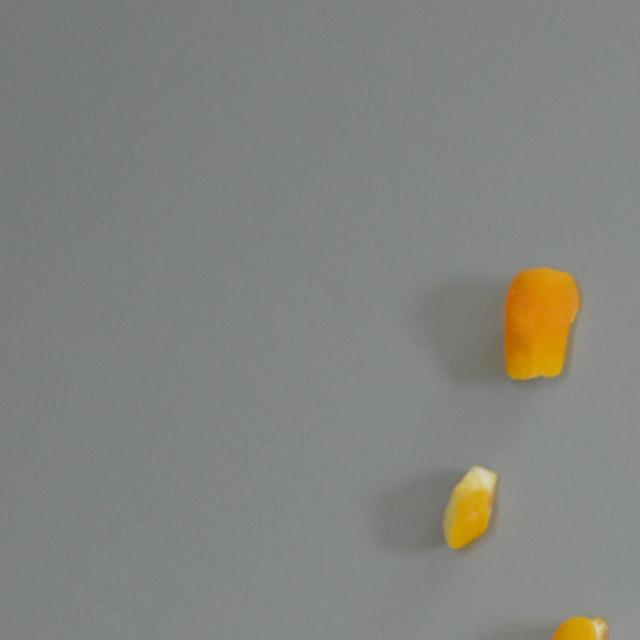estandar: (503, 266, 580, 381), (442, 464, 499, 550)
pelicula: (548, 615, 608, 640)
